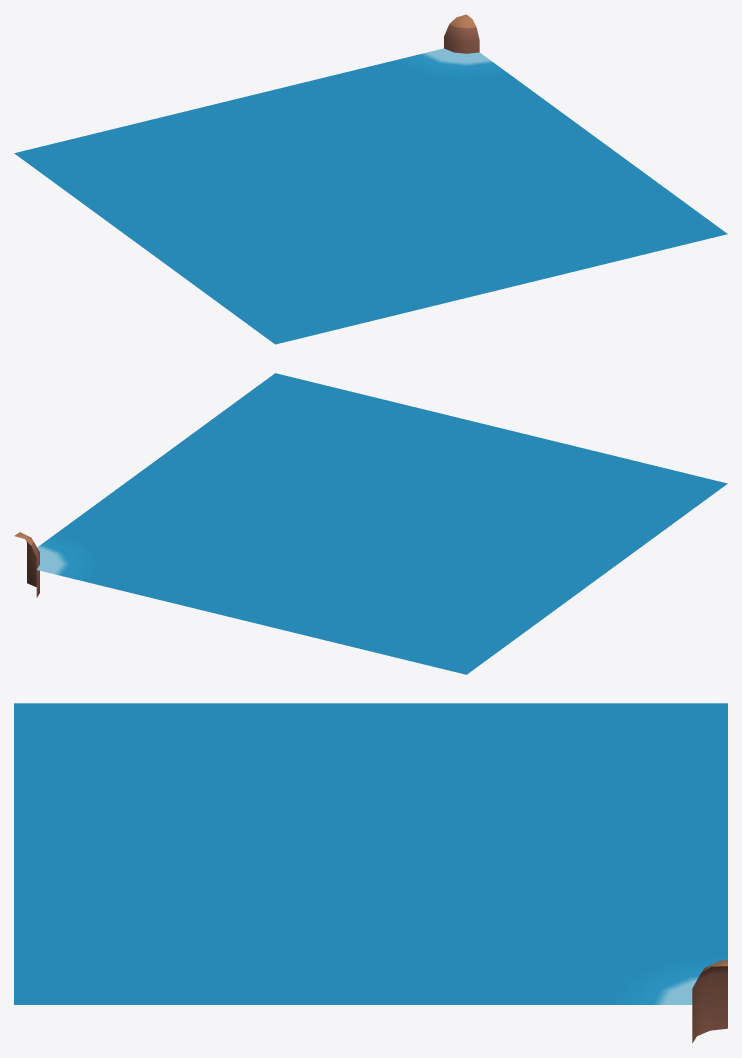
The model's file is water_inner.glb.
3 renders of one model, top to bottom at view 1: azimuth 30°, elevation 25°; view 2: azimuth 150°, elevation 25°; view 3: azimuth 270°, elevation 25°, orthographic. The views are drawn at different scales.
Visible parts, largest first — view 1: water_inner; view 2: water_inner; view 3: water_inner.
Part boxes in pixels (bbox=[...]): water_inner: bbox=[14, 14, 727, 344]; water_inner: bbox=[14, 373, 727, 674]; water_inner: bbox=[14, 703, 727, 1042].
Size of the model in its own units: 1 by 0.12 by 1.
3 materials, 1 textured.
